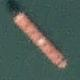ship: (0, 2, 36, 72)
